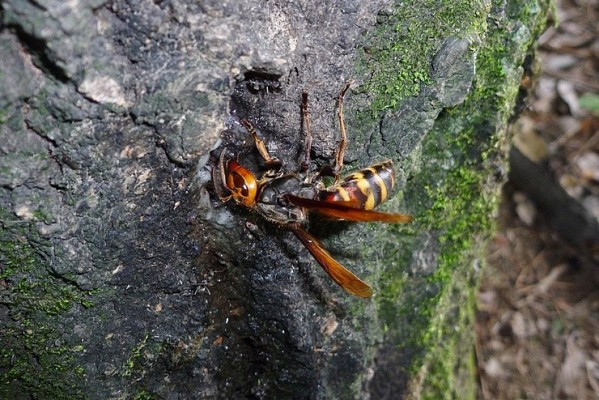asian_giant_hornet: (215, 156, 403, 237)
